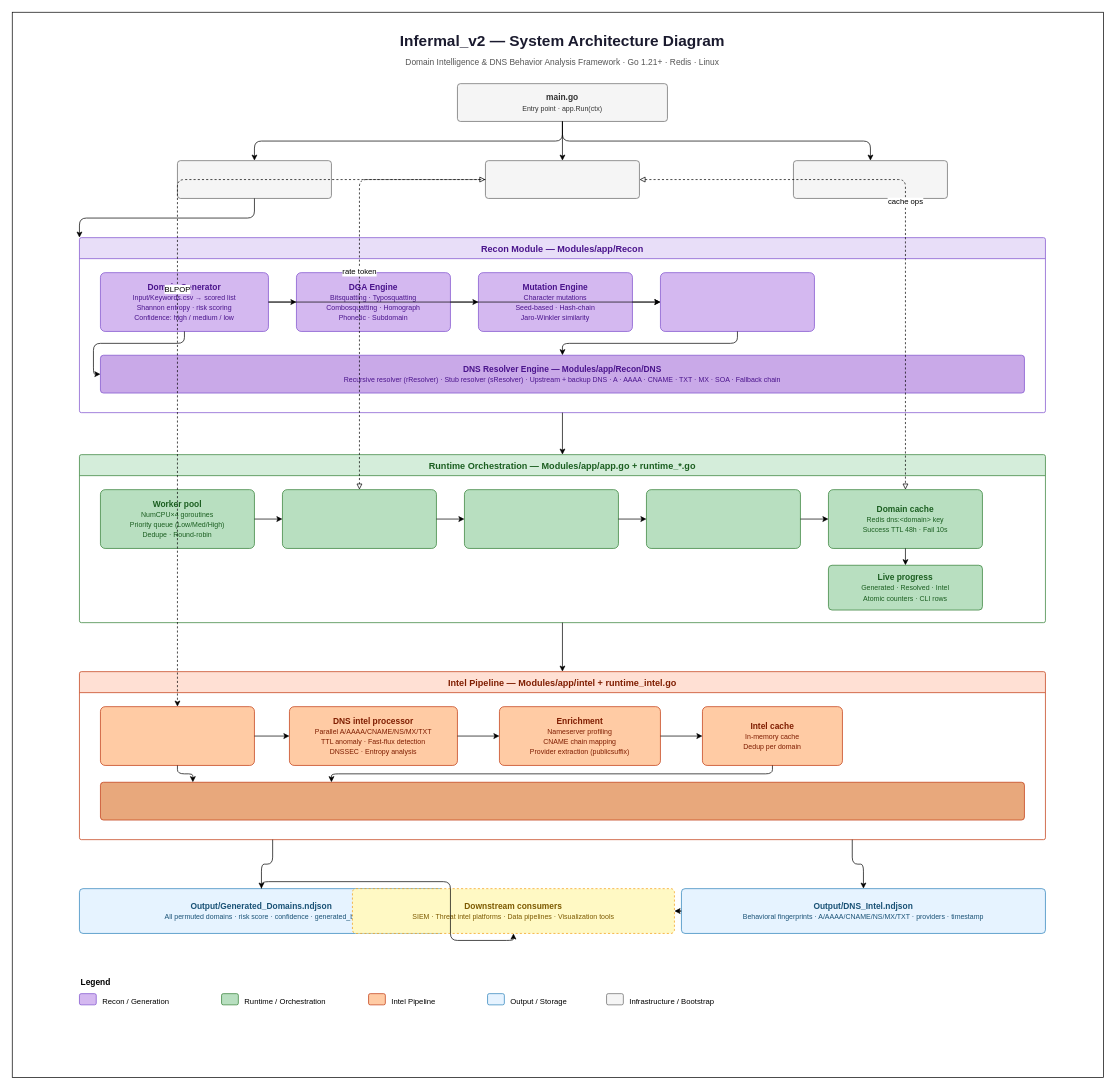
The diagram is 1116 pixels wide and 1090 high, and some of its shapes have lost their labels. The centre of each missing label's shape, as x and y in pixels:
"Config loader Setting/setting.conf" belongs at point 254,179.
"Cooldown manager Back-pressure gate Context-aware blocking" belongs at point 723,518.
"Intel queue Redis BLPOP consumer dns:intel:queue key Stop token pattern" belongs at point 177,735.
"NDJSON file writer Buffered I/O · atomic writes filewriter + ndjson_writer" belongs at point 562,801.
"Rate limiter Redis-backed token bucket Adaptive max-hits Cooldown gate" belongs at point 359,518.
"Redis client Cache + task queue · redis.Init()" belongs at point 562,179.
"Runtime tuner Adaptive controller Latency/pressure feedback Auto-scale workers" belongs at point 541,518.
"UI / Logger Spinner · banner · NDJSON logs" belongs at point 870,179.
"Validator RFC format · TLD check Entropy filter · Dedupe Human-likeness filter" belongs at point 737,301.
